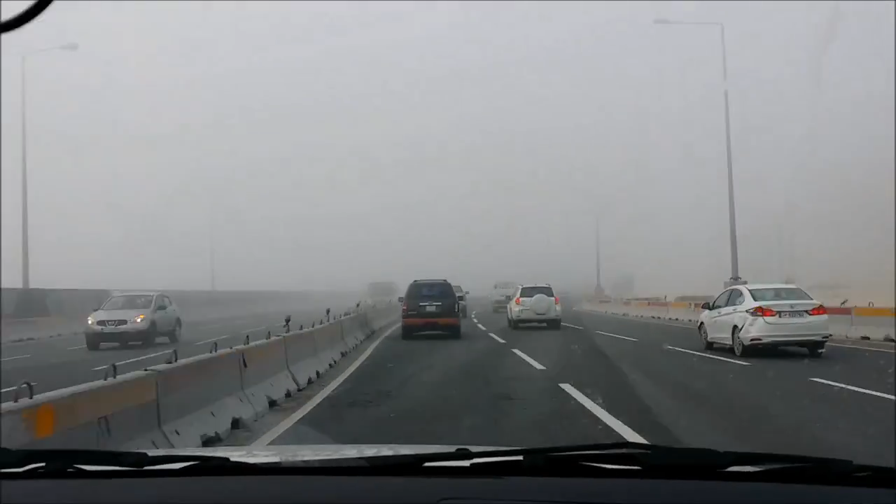car: (697, 280, 832, 357), (82, 289, 182, 348), (397, 278, 465, 339), (504, 282, 563, 329), (425, 281, 472, 318), (487, 279, 523, 313), (364, 279, 399, 313)
